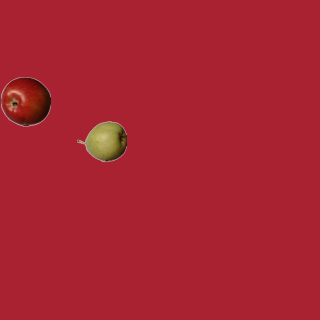Apple Braeburn: (0, 76, 50, 126)
Pear: (76, 116, 126, 166)
